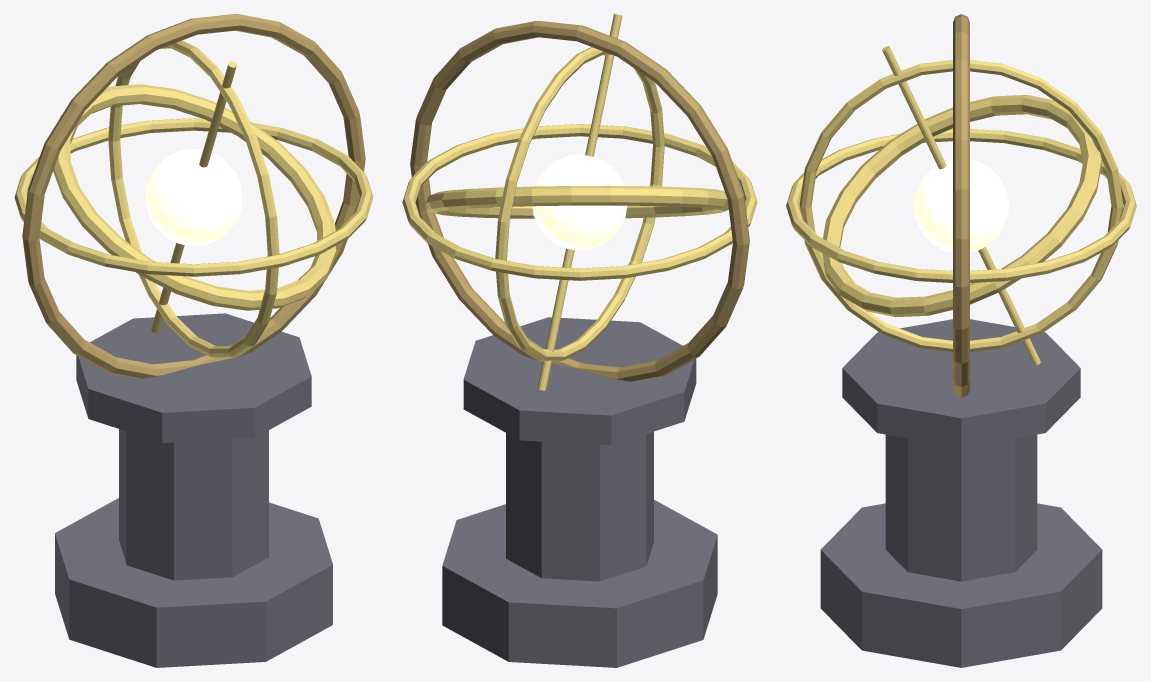
The model's file is astrolabe_sphere.glb.
3 views of the same model, side by side, from view 1: azimuth 30°, elevation 25°; view 2: azimuth 150°, elevation 25°; view 3: azimuth 270°, elevation 25° (orthographic). The views are drawn at different scales.
Visible parts, largest first — view 1: PedestalBase, PedestalCapital, PedestalShaft, MeridianStand, ZodiacBand, EquatorialRing, ColureRing, CelestialCore, PolarAxisNeedle; view 2: PedestalBase, PedestalCapital, PedestalShaft, MeridianStand, EquatorialRing, ColureRing, ZodiacBand, CelestialCore, PolarAxisNeedle; view 3: PedestalBase, PedestalCapital, PedestalShaft, ZodiacBand, ColureRing, EquatorialRing, MeridianStand, CelestialCore, PolarAxisNeedle.
Part boxes in pixels (<box>): PedestalBase: <box>55,498,332,667</box>; PedestalCapital: <box>76,313,311,442</box>; PedestalShaft: <box>119,429,268,580</box>; MeridianStand: <box>22,14,365,378</box>; ZodiacBand: <box>53,84,336,310</box>; EquatorialRing: <box>14,118,373,276</box>; ColureRing: <box>108,40,279,358</box>; CelestialCore: <box>145,149,242,245</box>; PolarAxisNeedle: <box>151,61,236,333</box>; PedestalBase: <box>442,499,717,667</box>; PedestalCapital: <box>463,317,696,445</box>; PedestalShaft: <box>506,431,653,581</box>; MeridianStand: <box>410,21,749,381</box>; EquatorialRing: <box>402,124,757,280</box>; ColureRing: <box>495,47,664,361</box>; ZodiacBand: <box>425,185,728,218</box>; CelestialCore: <box>532,154,627,250</box>; PolarAxisNeedle: <box>537,14,622,390</box>; PedestalBase: <box>820,503,1102,667</box>; PedestalCapital: <box>842,319,1080,447</box>; PedestalShaft: <box>885,434,1037,581</box>; ZodiacBand: <box>822,95,1101,317</box>; ColureRing: <box>799,60,1123,351</box>; EquatorialRing: <box>786,129,1136,282</box>; MeridianStand: <box>953,14,969,397</box>; CelestialCore: <box>914,159,1008,252</box>; PolarAxisNeedle: <box>882,46,1040,365</box>.
Bounding box in the file's own units: 1.78 × 2.94 × 1.62.
